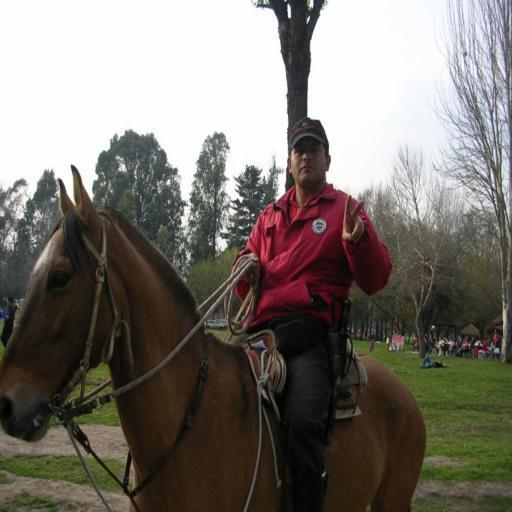horse: (0, 164, 426, 512)
